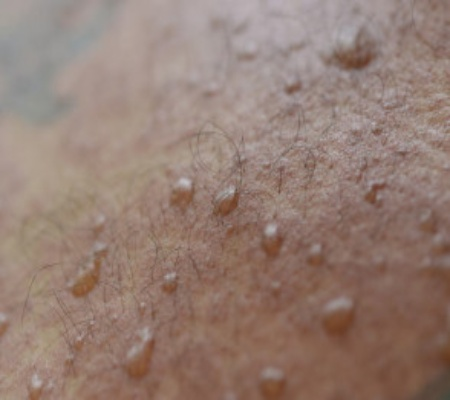SJS-TEN: (0, 161, 443, 400), (176, 8, 397, 125)
